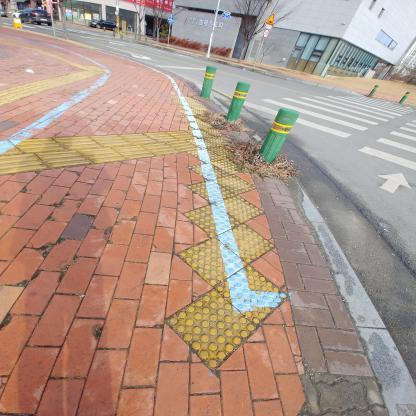podotacti: (159, 89, 293, 375), (0, 119, 200, 180)
